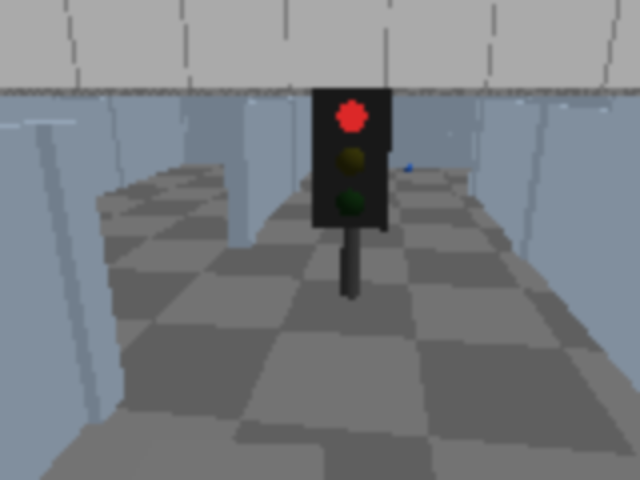obstacle: (14, 438, 325, 478)
traffic_light: (313, 75, 394, 311)
